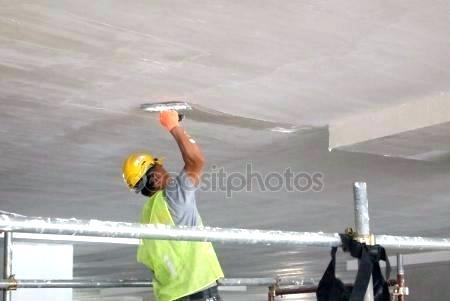yellow: (121, 152, 170, 198)
